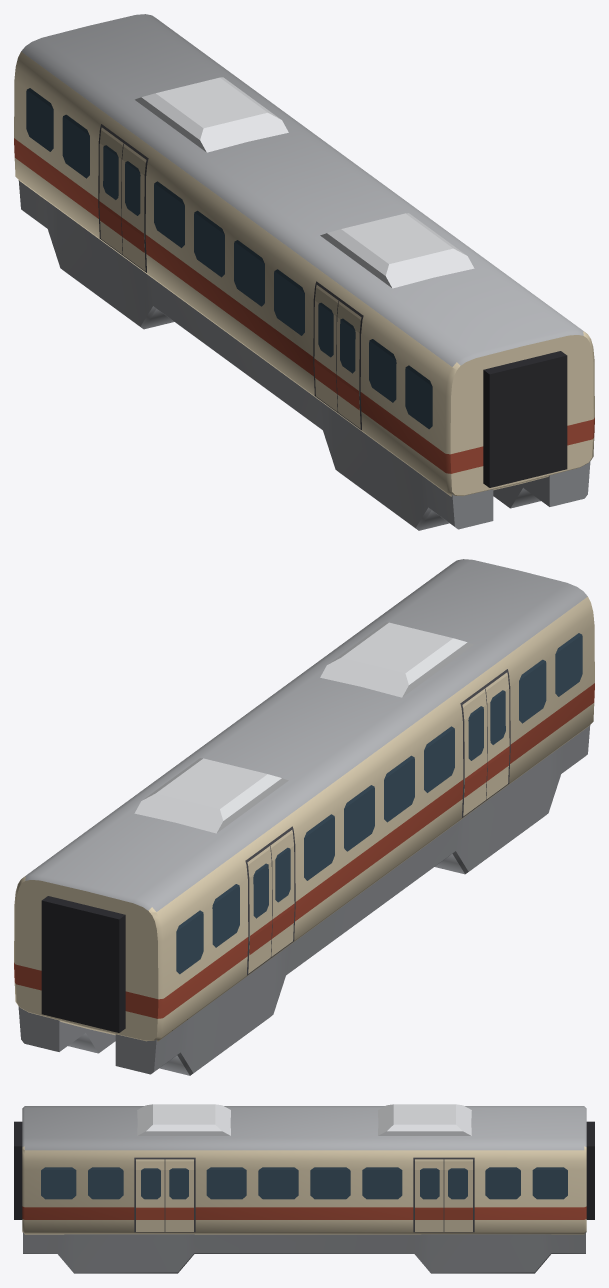
The model's file is middle_3.fbx.
3 renders of one model, top to bottom at view 1: azimuth 30°, elevation 25°; view 2: azimuth 150°, elevation 25°; view 3: azimuth 270°, elevation 25°, orthographic. The views are drawn at different scales.
Visible parts, largest first — view 1: 24_middle_3; view 2: 24_middle_3; view 3: 24_middle_3.
Boxes of the visible parts, box(x1,y1,x2,y2) form: 24_middle_3: box(14, 14, 594, 530); 24_middle_3: box(14, 559, 594, 1075); 24_middle_3: box(14, 1104, 594, 1273).
Bounding box in the file's own units: 2.72 × 3.7 × 14.
